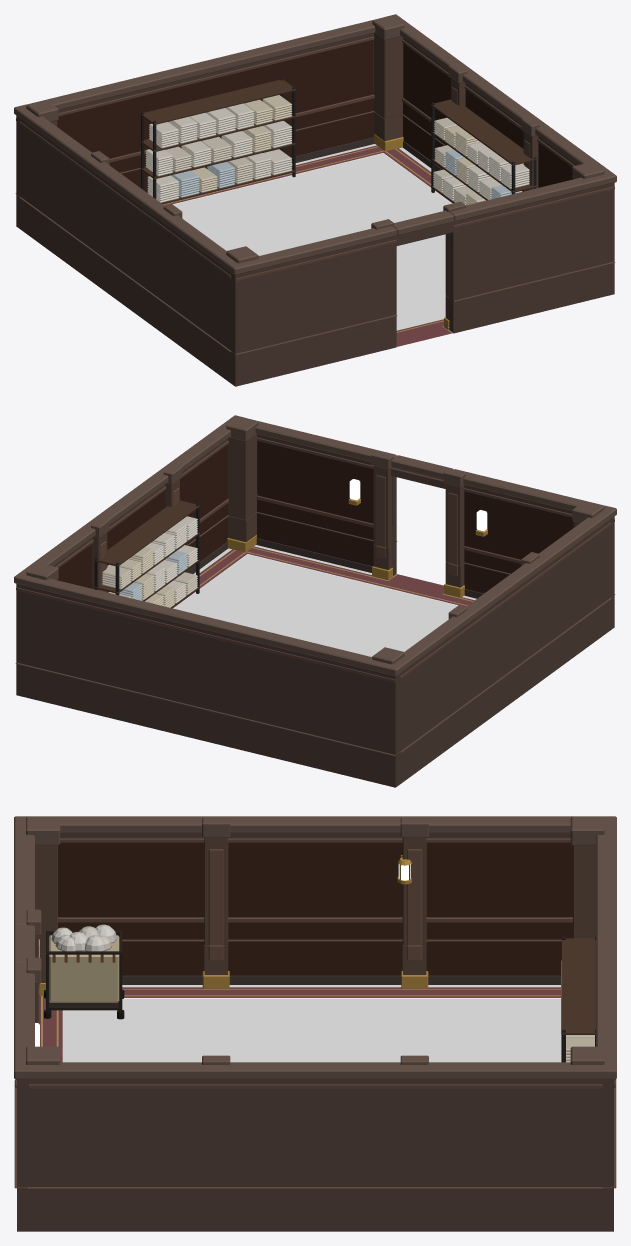
Rendered from housekeeping.glb.
3 views of the same model, one above another, from view 1: azimuth 30°, elevation 25°; view 2: azimuth 150°, elevation 25°; view 3: azimuth 270°, elevation 25° (orthographic). The views are drawn at different scales.
Parts seen in each view (by area): view 1: static, W_north_0_up, floor, W_west_0_up, W_south_0_up, W_south_1_up, W_east_0_up; view 2: W_north_0_up, static, W_west_0_up, floor, W_south_1_up, W_south_0_up, W_east_0_up; view 3: W_east_0_up, W_west_0_up, static, floor, W_north_0_up, W_south_0_up, W_south_1_up.
Part boxes in pixels (left/top/right/bottom): static: left=15, top=78, right=615, bottom=386; W_north_0_up: left=14, top=15, right=404, bottom=196; floor: left=163, top=144, right=452, bottom=346; W_west_0_up: left=14, top=104, right=246, bottom=350; W_south_0_up: left=226, top=210, right=453, bottom=353; W_south_1_up: left=443, top=162, right=616, bottom=300; W_east_0_up: left=385, top=14, right=616, bottom=191; W_north_0_up: left=14, top=563, right=404, bottom=754; static: left=15, top=493, right=615, bottom=787; W_west_0_up: left=384, top=505, right=616, bottom=751; floor: left=172, top=545, right=476, bottom=656; W_south_1_up: left=226, top=416, right=396, bottom=547; W_south_0_up: left=391, top=455, right=616, bottom=597; W_east_0_up: left=14, top=415, right=245, bottom=592; W_east_0_up: left=14, top=1055, right=616, bottom=1186; W_west_0_up: left=14, top=816, right=616, bottom=945; static: left=14, top=924, right=616, bottom=1231; floor: left=39, top=985, right=560, bottom=1062; W_north_0_up: left=570, top=816, right=616, bottom=1186; W_south_0_up: left=14, top=816, right=60, bottom=987; W_south_1_up: left=14, top=957, right=60, bottom=1186.
Bounding box in the file's own units: 8.08 × 2.48 × 8.08.
